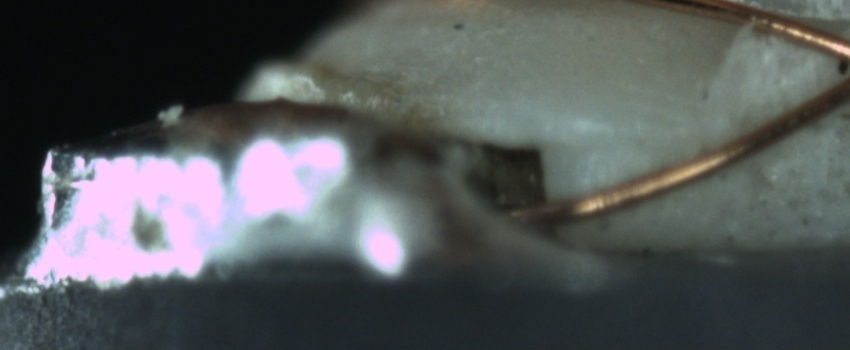DL: (567, 108, 698, 171)
